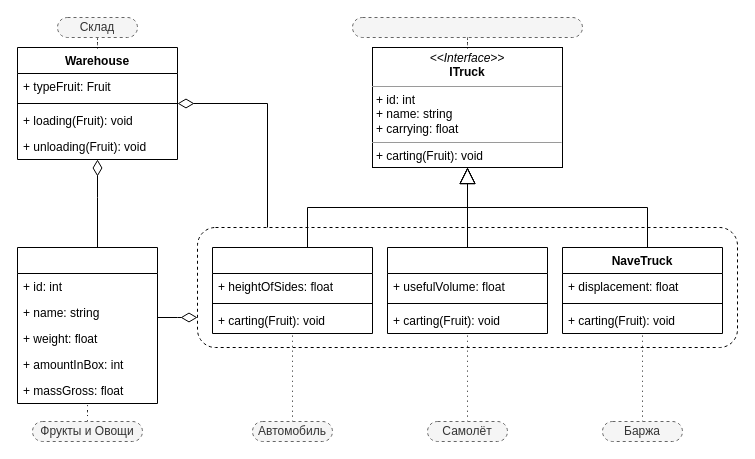
The diagram is 755 pixels wide and 459 high, and some of its shapes have lost their labels. The box of each missing label's shape, as (x1, y1, x2, y2) in pixels:
AirTruck: (386, 246, 548, 334)
AutoTruck: (212, 246, 372, 334)
Fruit: (16, 246, 158, 404)
Интерфейс грузового транспорта: (352, 16, 582, 38)
